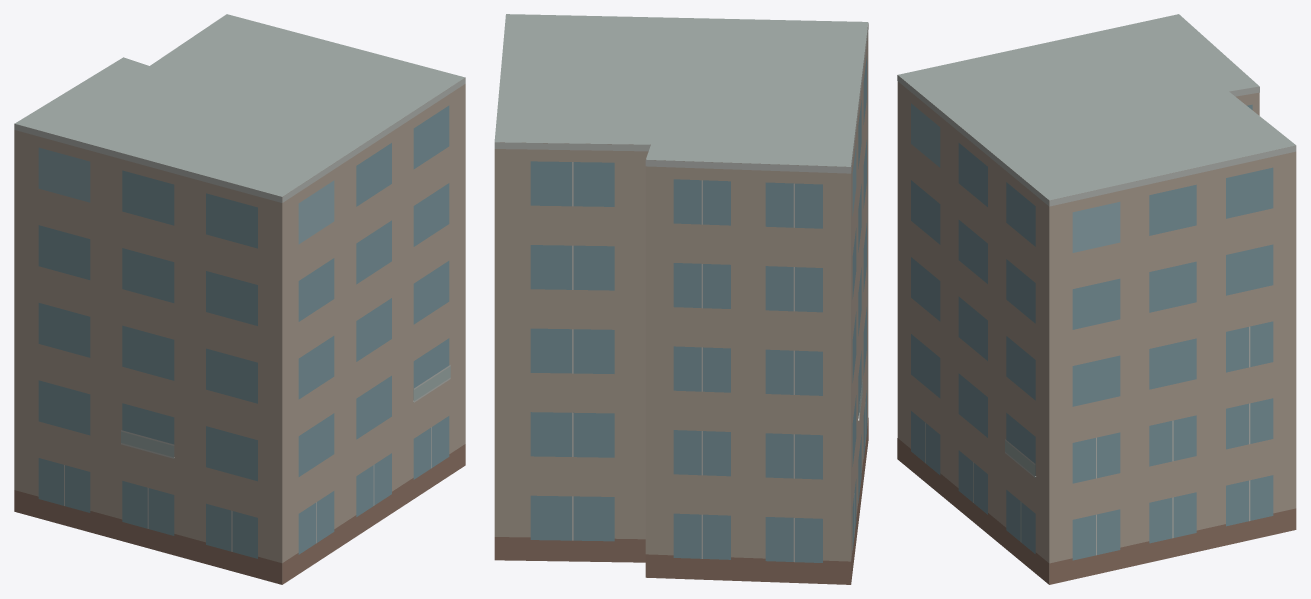
Rendered from survey-upis-32869653.glb.
3 views of the same model, side by side, from view 1: azimuth 30°, elevation 25°; view 2: azimuth 150°, elevation 25°; view 3: azimuth 270°, elevation 25° (orthographic). The views are drawn at different scales.
Visible parts, largest first — view 1: survey-upis-32869653.tmp; view 2: survey-upis-32869653.tmp; view 3: survey-upis-32869653.tmp.
Boxes of the visible parts, x1=… form: survey-upis-32869653.tmp: x1=14, y1=14, x2=465, y2=584; survey-upis-32869653.tmp: x1=494, y1=14, x2=868, y2=584; survey-upis-32869653.tmp: x1=897, y1=14, x2=1296, y2=584.
Size of the model in its own units: 15.87 by 15.25 by 14.35.
